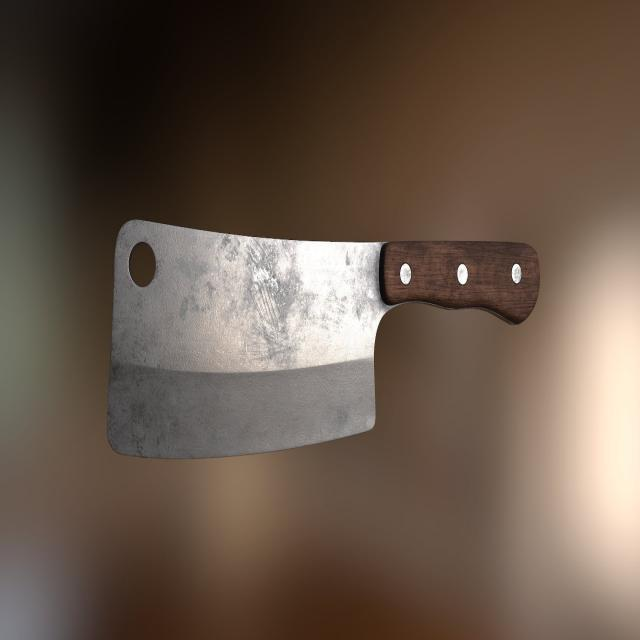cleaver: (115, 214, 538, 440)
